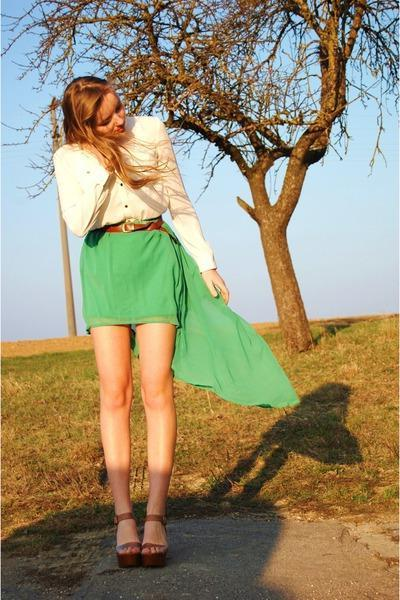long sleeve shirt: (50, 114, 222, 274)
skirt: (65, 213, 302, 410)
